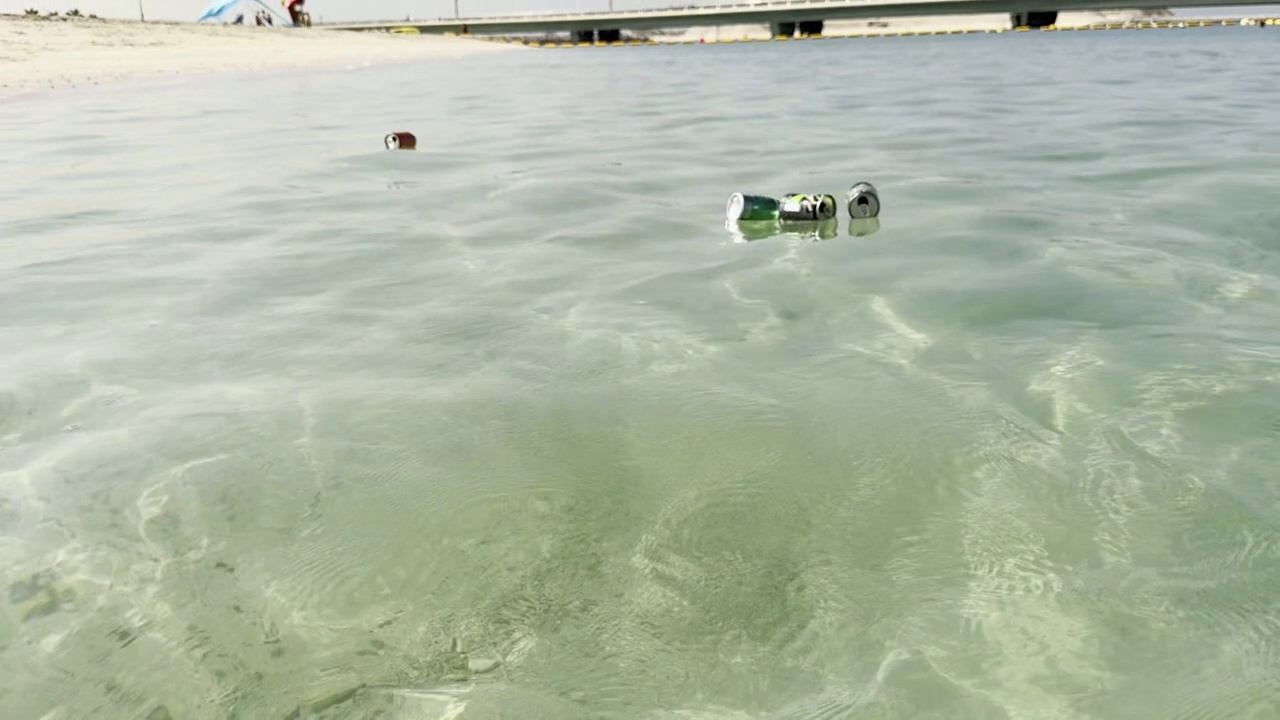debris: (770, 185, 840, 232), (724, 183, 782, 233), (834, 175, 885, 228), (383, 125, 421, 153)
